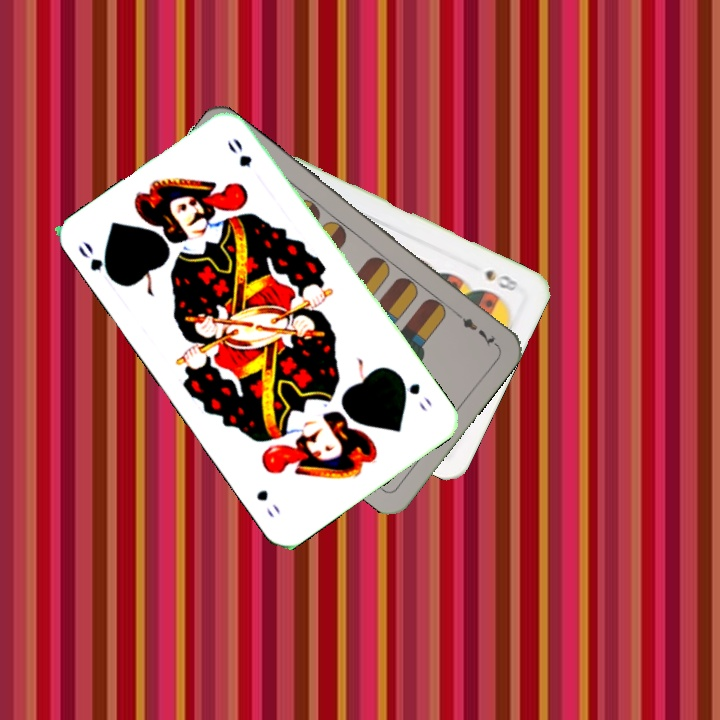E7: (450, 308, 499, 350)
GO: (74, 237, 120, 286), (394, 370, 434, 414)
S8: (481, 265, 521, 294)
